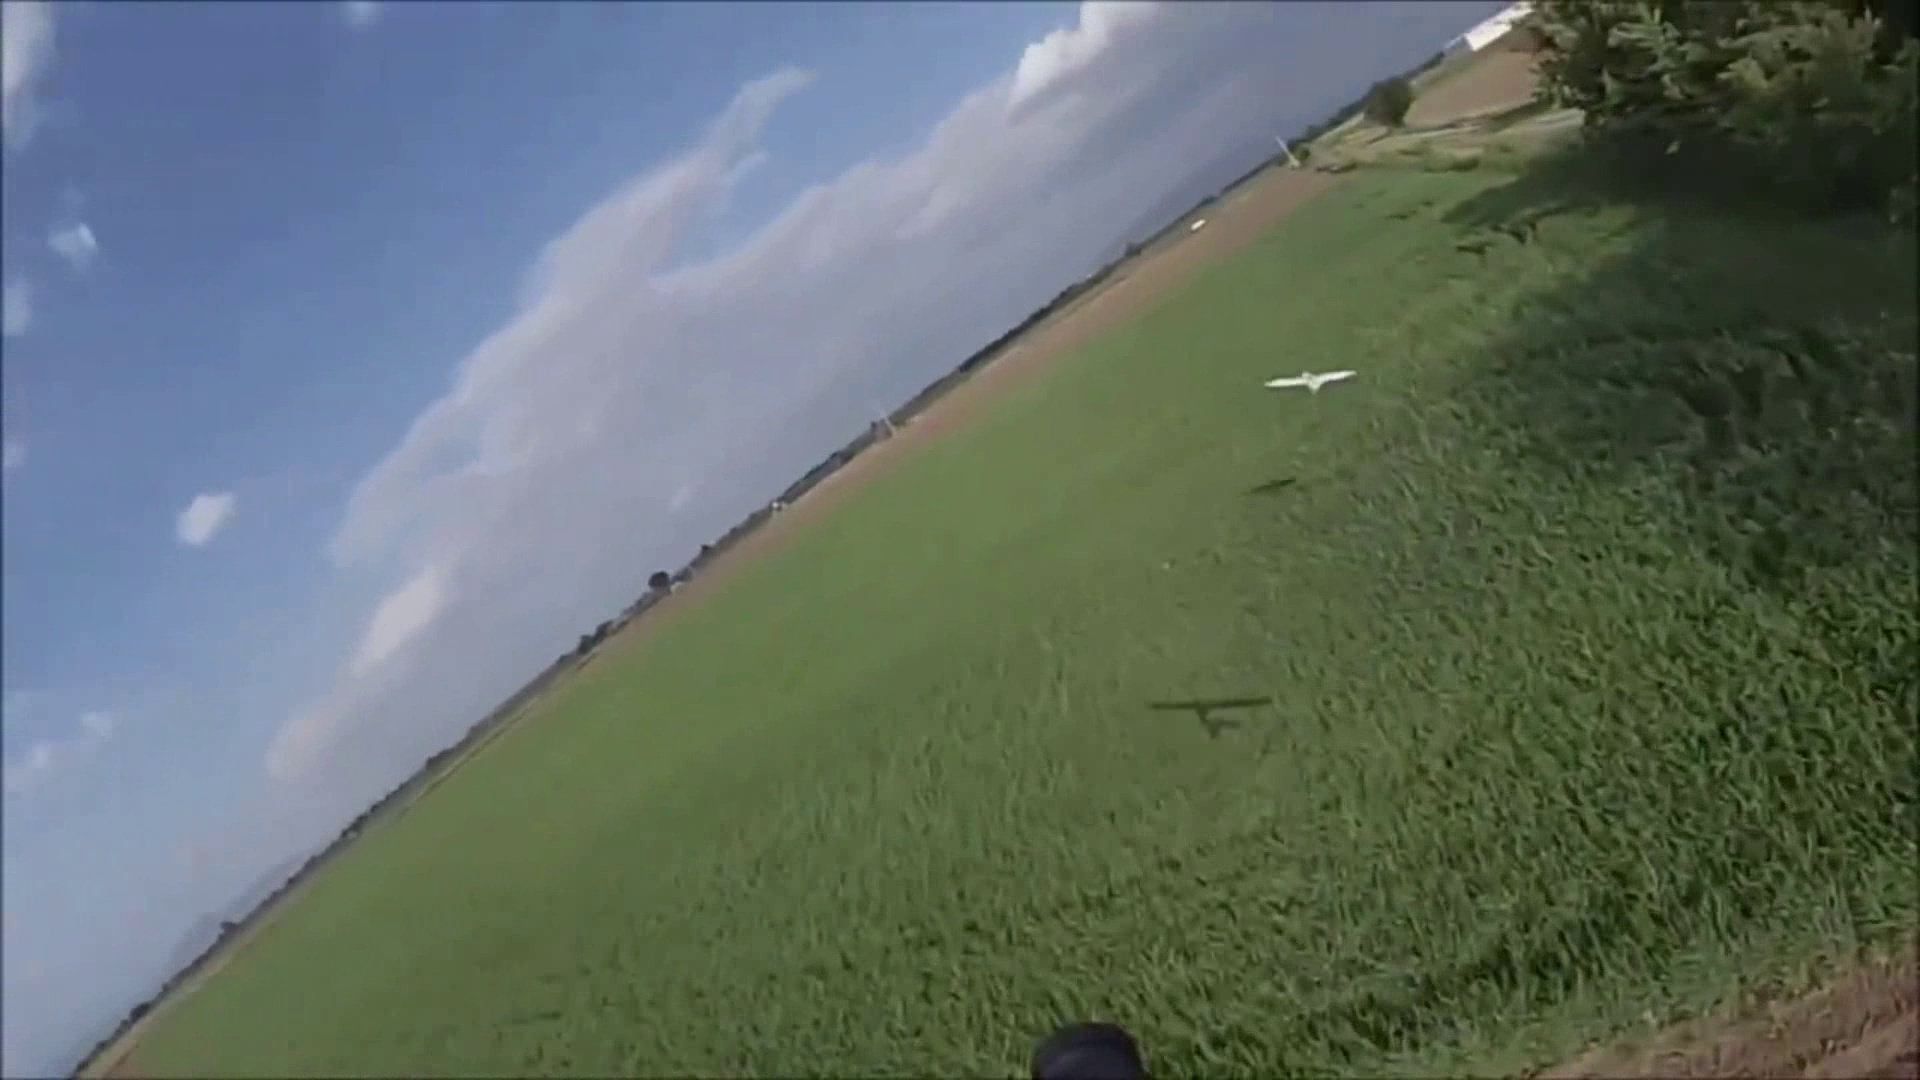airplane: (1263, 368, 1358, 392)
